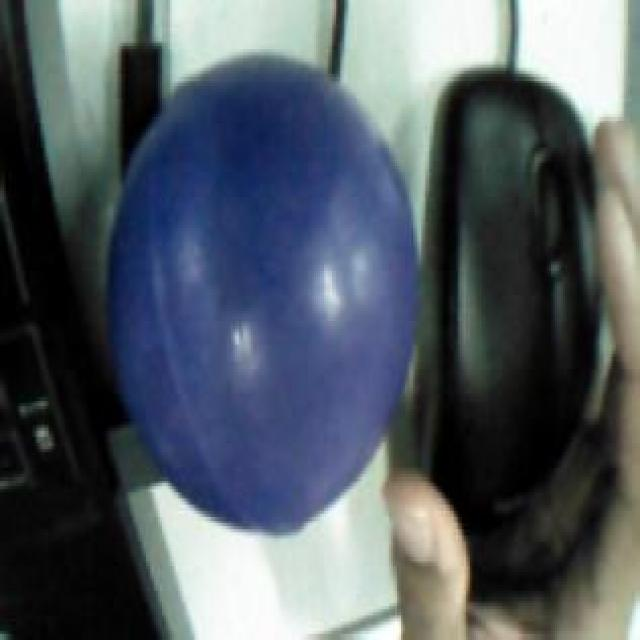BallPurple: (106, 52, 420, 536)
